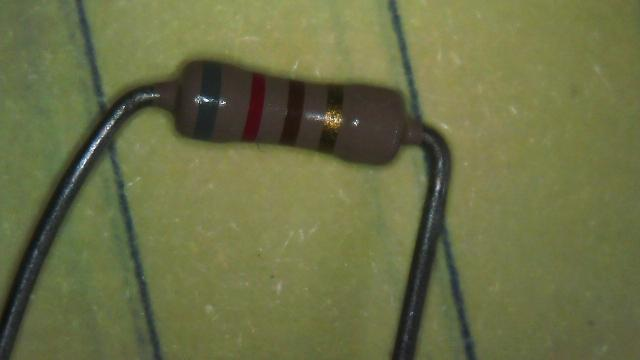brown: (280, 80, 304, 145)
gold: (320, 86, 342, 154)
grey: (192, 62, 222, 140)
red: (241, 72, 266, 141)
resistor: (139, 27, 440, 197)
